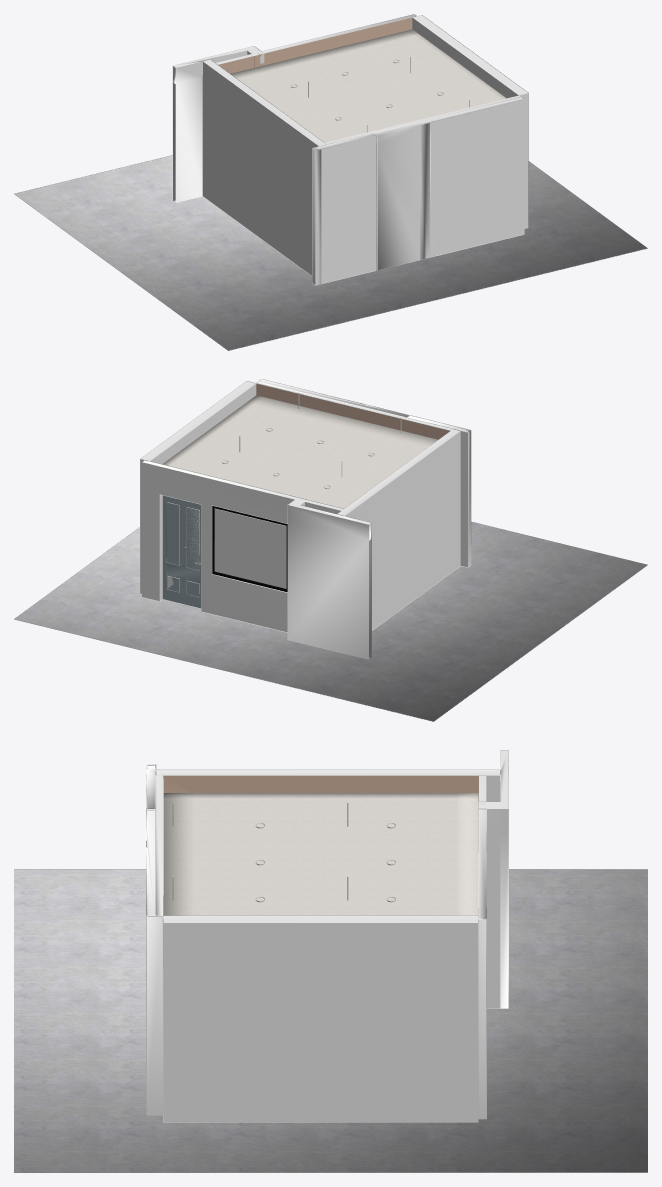
File: break-room(static)_ver-7.glb
The picture shows the model from 3 angles, top to bottom: view 1: azimuth 30°, elevation 25°; view 2: azimuth 150°, elevation 25°; view 3: azimuth 270°, elevation 25°; orthographic projection. The views are drawn at different scales.
Visible parts, largest first — view 1: walls, floor, ceiling; view 2: floor, walls, ceiling, window, door; view 3: floor, walls, ceiling.
Part boxes in pixels (x1,y1,x2,y2): walls: (172,14,528,285); floor: (14,155,647,350); ceiling: (230,29,506,142); floor: (14,521,647,721); walls: (140,379,471,659); ceiling: (162,395,437,508); window: (212,506,287,592); door: (162,495,201,608); floor: (14,869,647,1172); walls: (146,750,508,1122); ceiling: (163,793,478,915).
Bounding box in the file's own units: 394 × 125 × 349.
Materials: 49 (25 with a texture image).
